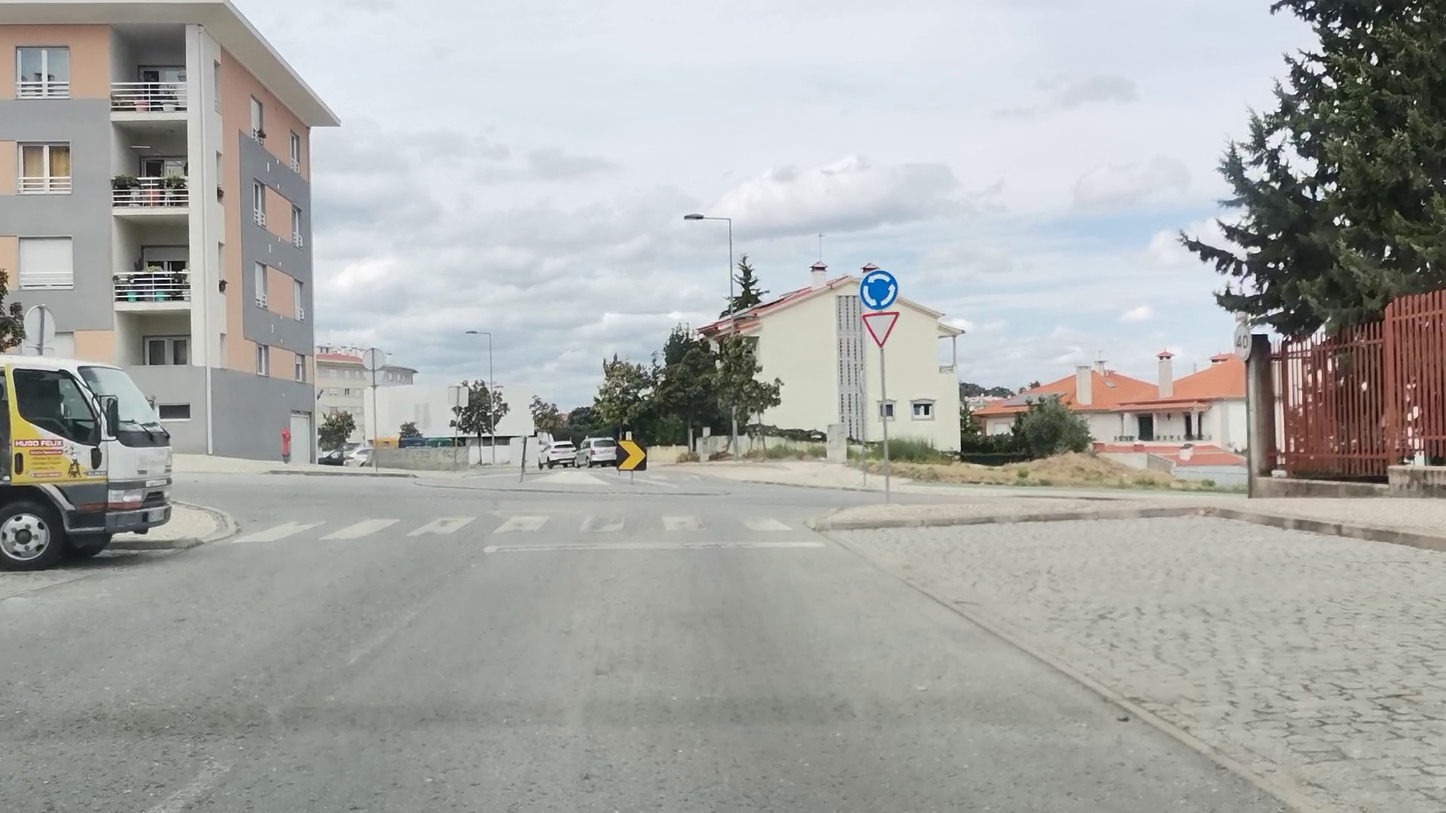Stairs: (227, 513, 802, 543)
